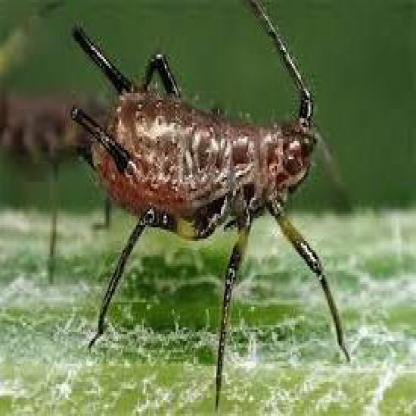uroleucon compositae: (72, 3, 318, 406)
